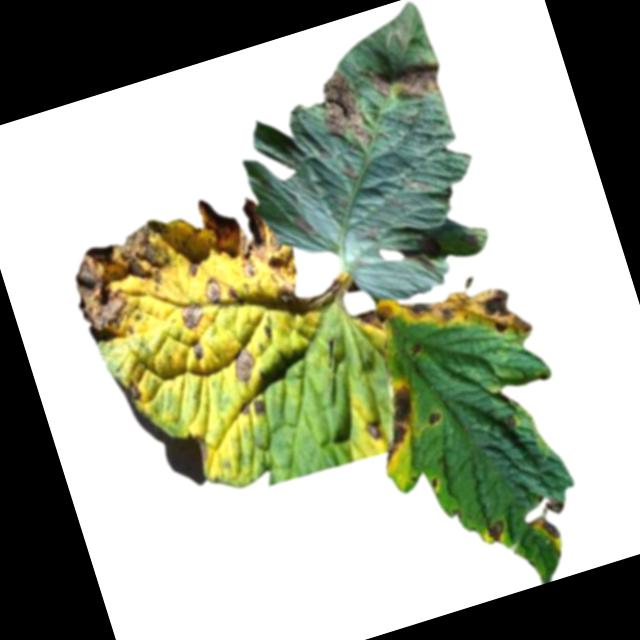Early_blight: (59, 214, 197, 350), (397, 265, 536, 373), (190, 175, 300, 303), (358, 48, 449, 117), (311, 64, 376, 155), (363, 381, 430, 468), (272, 271, 348, 323), (525, 494, 572, 547), (354, 300, 398, 342), (224, 345, 262, 387), (176, 299, 207, 330), (481, 515, 511, 546), (361, 415, 386, 444), (201, 276, 223, 304), (188, 338, 206, 366), (425, 409, 446, 432), (125, 378, 144, 400), (249, 397, 267, 418), (428, 475, 442, 494)
